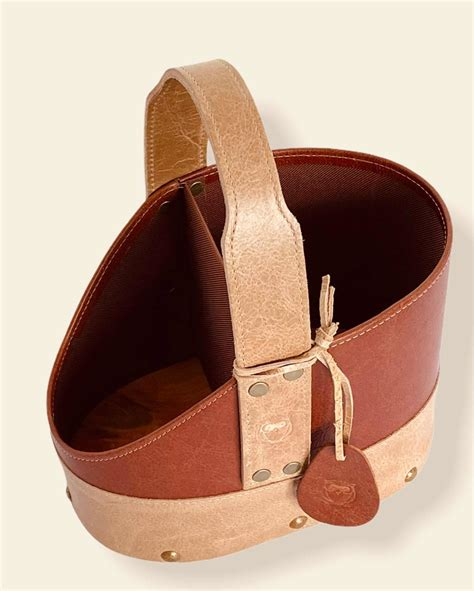cuero: (45, 58, 454, 564)
